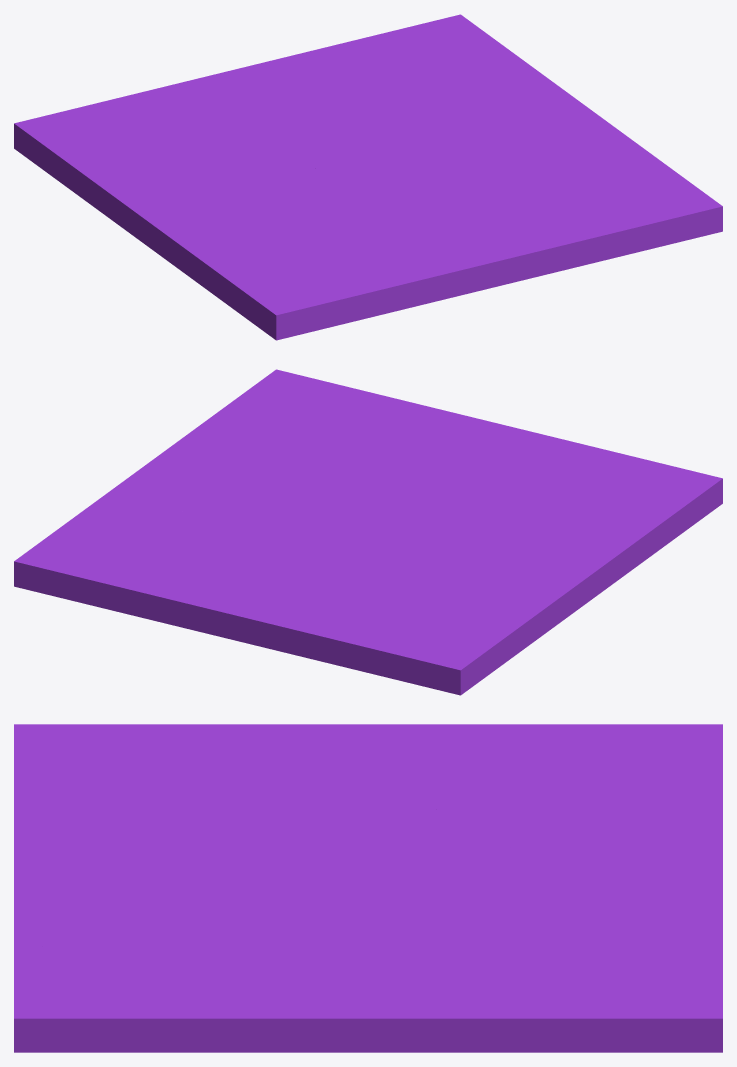
File: Window_171_chunks.fbx
3 renders of one model, top to bottom at view 1: azimuth 30°, elevation 25°; view 2: azimuth 150°, elevation 25°; view 3: azimuth 270°, elevation 25°, orthographic. The views are drawn at different scales.
Visible parts, largest first — view 1: Window_171_5, Window_171_7, Window_171_19, Window_171_35, Window_171_18, Window_171_0, Window_171_10, Window_171_36, Window_171_17, Window_171_12, Window_171_26, Window_171_33 (+22 smaller); view 2: Window_171_7, Window_171_5, Window_171_35, Window_171_36, Window_171_19, Window_171_0, Window_171_10, Window_171_12, Window_171_26, Window_171_3, Window_171_18, Window_171_33 (+24 smaller); view 3: Window_171_7, Window_171_5, Window_171_21, Window_171_3, Window_171_19, Window_171_20, Window_171_35, Window_171_0, Window_171_26, Window_171_36, Window_171_10, Window_171_18 (+22 smaller).
Boxes of the visible parts, x1,y1,x2,y2 form: Window_171_5: (385,177,617,289); Window_171_7: (14,95,250,190); Window_171_19: (506,155,675,256); Window_171_35: (131,57,306,123); Window_171_18: (332,242,458,316); Window_171_0: (263,168,420,219); Window_171_10: (120,201,300,241); Window_171_36: (285,16,453,74); Window_171_17: (251,248,353,340); Window_171_12: (72,170,216,245); Window_171_26: (413,77,568,147); Window_171_33: (325,78,429,149); Window_171_7: (333,561,527,695); Window_171_5: (325,395,523,502); Window_171_35: (190,583,353,656); Window_171_36: (21,546,214,623); Window_171_19: (246,381,382,466); Window_171_0: (377,473,503,556); Window_171_10: (490,522,605,593); Window_171_12: (458,561,594,652); Window_171_26: (100,476,283,518); Window_171_3: (14,509,171,602); Window_171_18: (502,434,662,488); Window_171_33: (161,519,327,563); Window_171_7: (436,724,722,836); Window_171_5: (14,855,298,948); Window_171_21: (158,978,435,1052); Window_171_3: (530,956,722,1052); Window_171_19: (14,931,271,993); Window_171_20: (14,987,214,1052); Window_171_35: (574,801,722,902); Window_171_0: (184,805,426,867); Window_171_26: (348,914,489,1037); Window_171_36: (605,901,722,1014); Window_171_10: (234,724,435,807); Window_171_18: (14,763,144,844).
Size of the model in its own units: 1129 by 60.81 by 1149.
